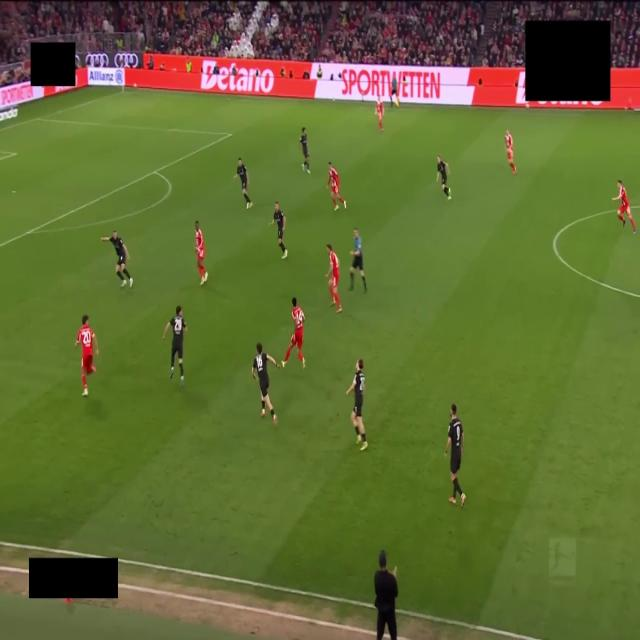player: (252, 343, 279, 424), (445, 404, 465, 506), (75, 315, 98, 396), (347, 359, 367, 451), (163, 306, 186, 386), (101, 231, 132, 287), (281, 297, 305, 368), (613, 180, 636, 233), (326, 244, 341, 312), (270, 201, 287, 259), (327, 162, 346, 210), (234, 158, 252, 208), (195, 221, 207, 285), (437, 155, 451, 199), (505, 130, 516, 175), (300, 128, 310, 174), (376, 96, 383, 131)
referee: (350, 228, 366, 292)
